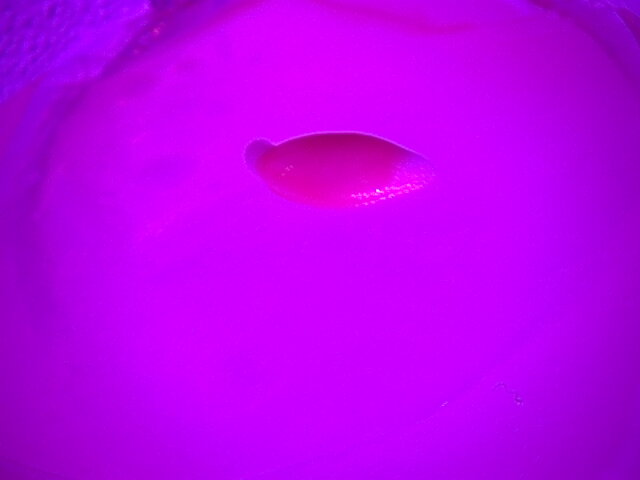seed: (239, 119, 439, 218)
